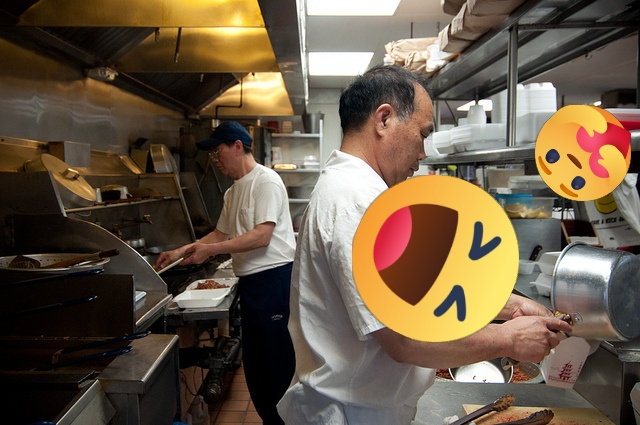care: (535, 105, 631, 201)
haha: (352, 175, 519, 342)
